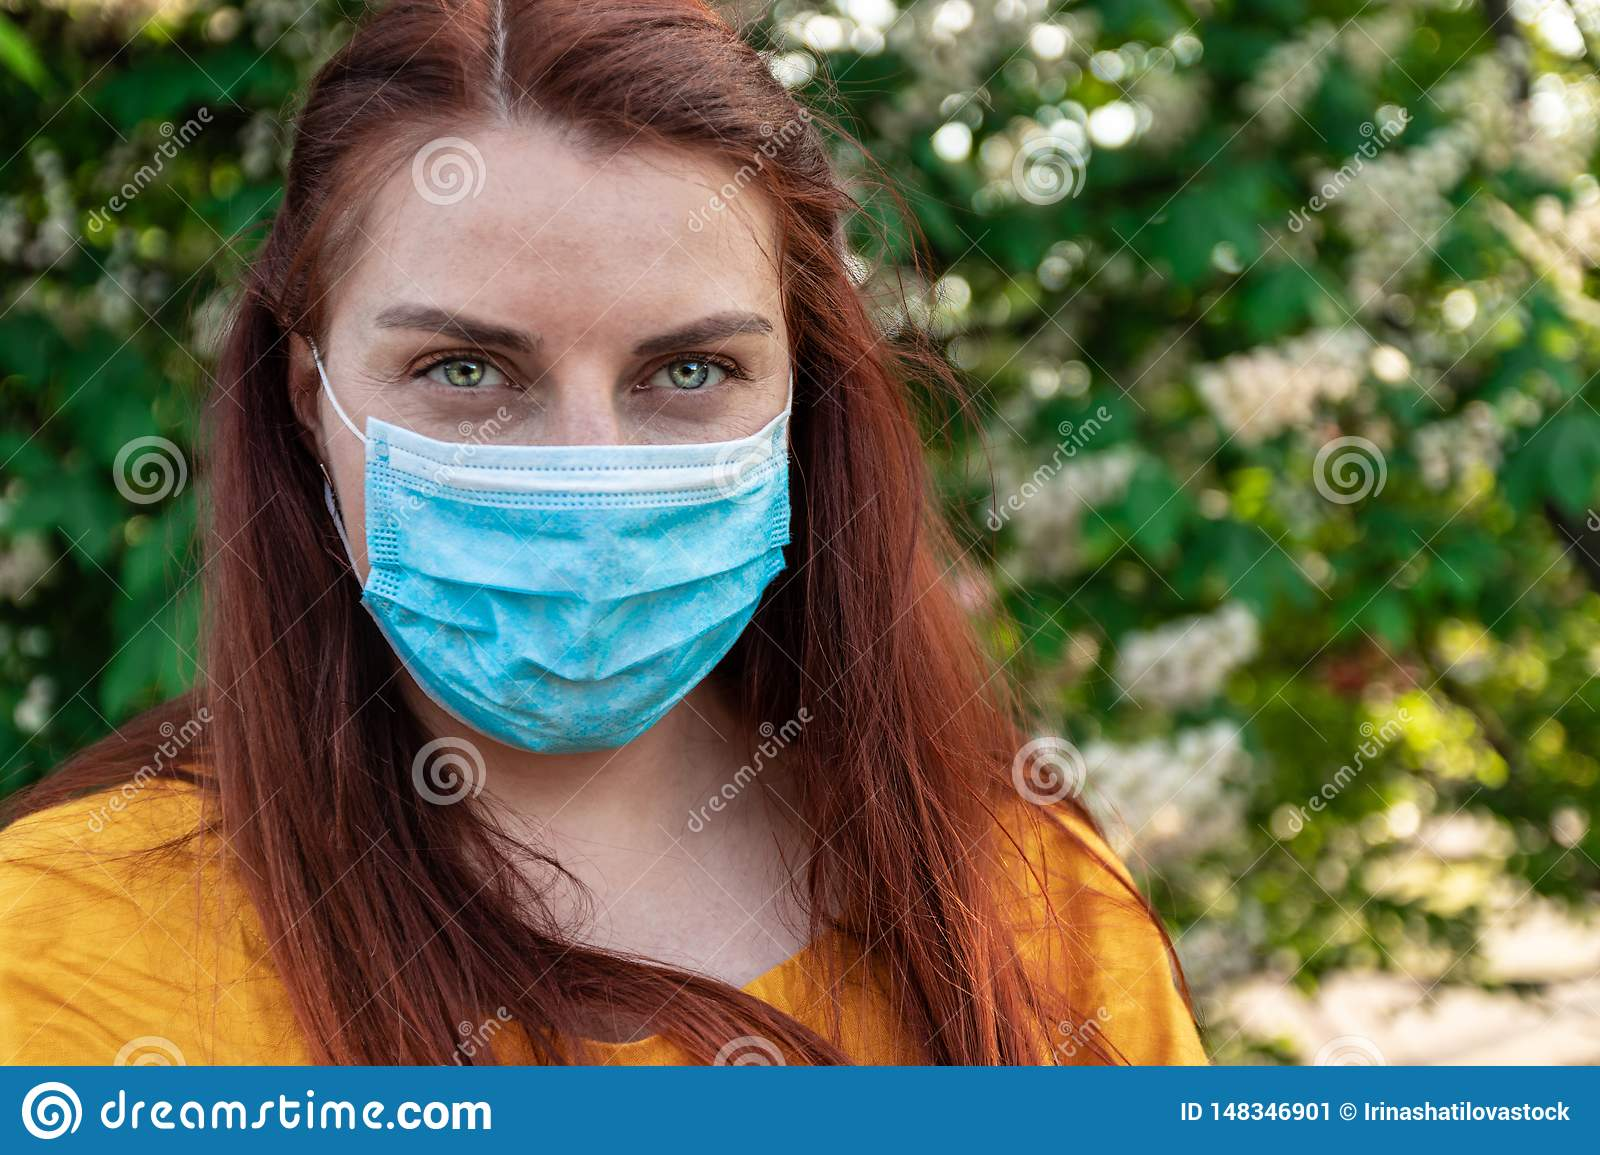mask: (359, 426, 812, 744)
